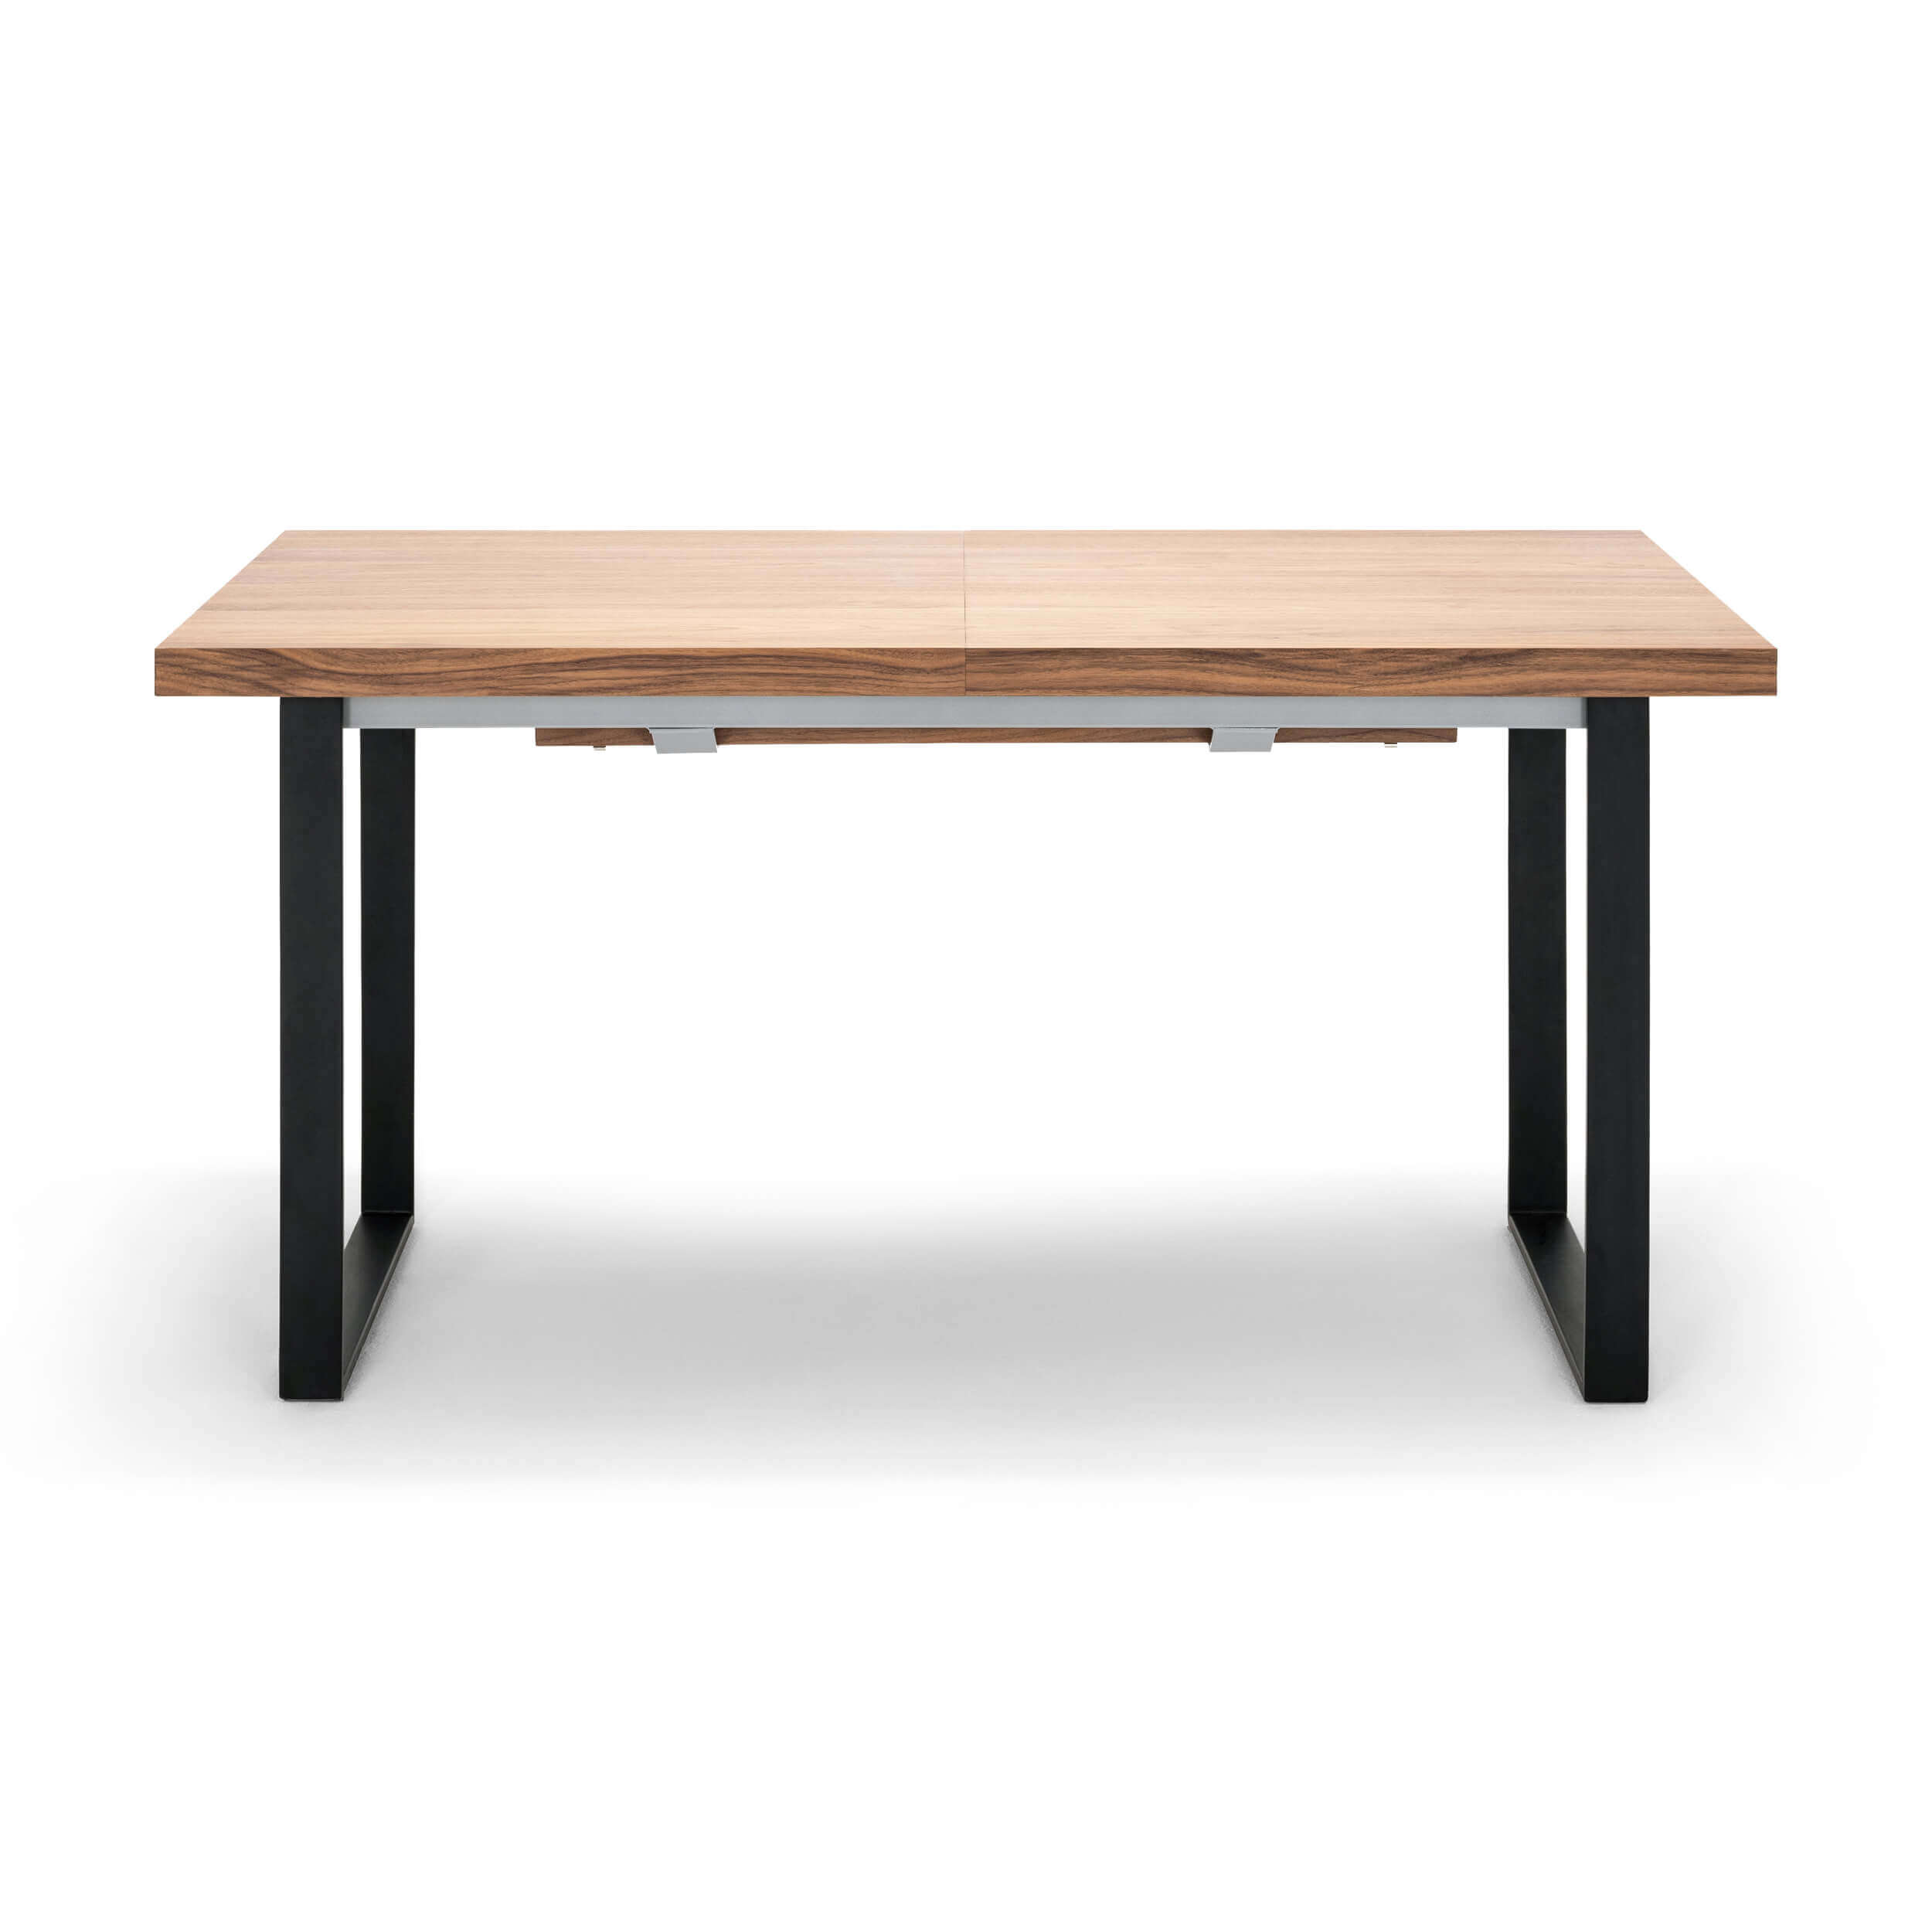meja: (147, 534, 1782, 1407)
